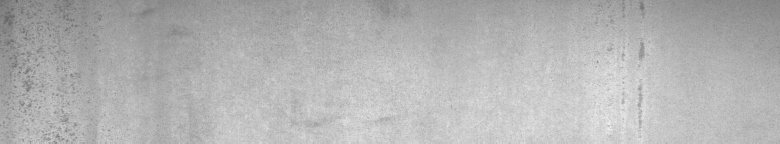ib: (4, 4, 152, 136)
